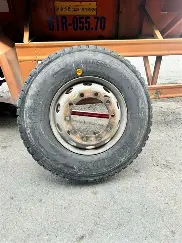ROAD_OBSTACLE: (16, 42, 152, 178)
